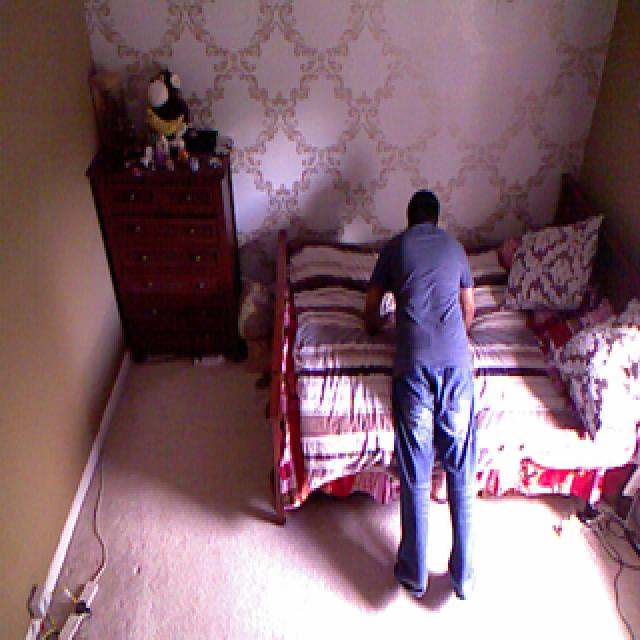lying: (362, 187, 479, 608)
